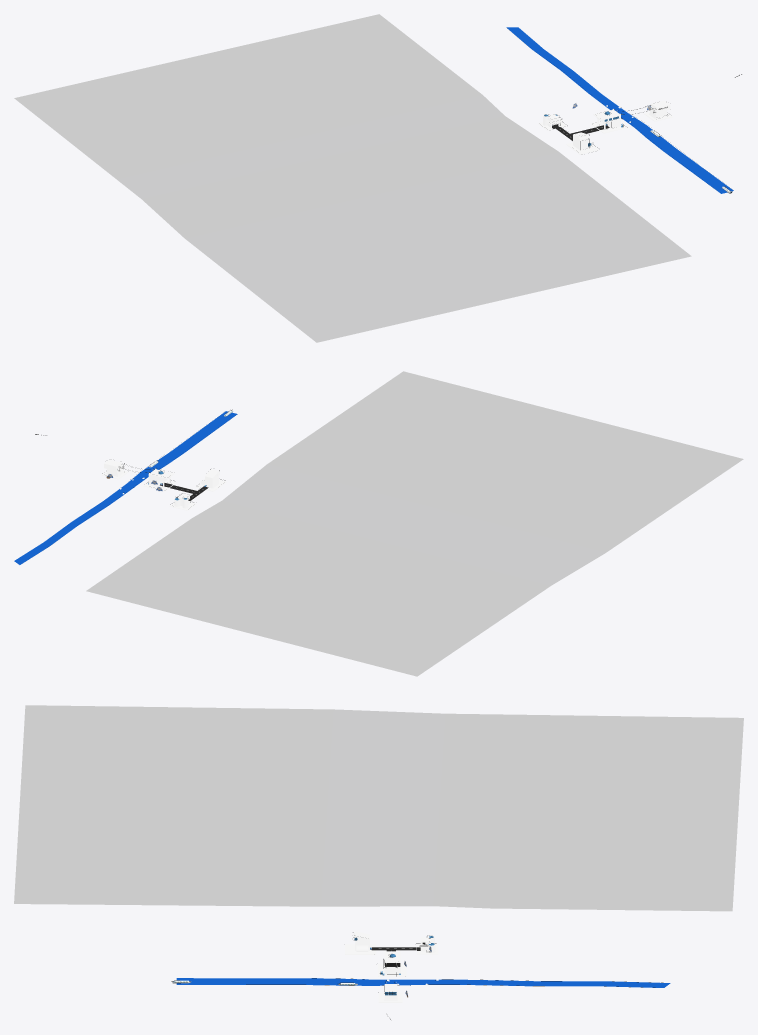
Rendered from animation.glb.
3 views of the same model, one above another, from view 1: azimuth 30°, elevation 25°; view 2: azimuth 150°, elevation 25°; view 3: azimuth 270°, elevation 25° (orthographic). The views are drawn at different scales.
Visible parts, largest first — view 1: Plane.003, Plane.006; view 2: Plane.003, Plane.006; view 3: Plane.003, Plane.006.
Boxes of the visible parts, x1,y1,x2,y2 form: Plane.003: [14, 14, 691, 342]; Plane.006: [506, 27, 733, 193]; Plane.003: [86, 371, 743, 676]; Plane.006: [14, 411, 237, 564]; Plane.003: [14, 705, 743, 911]; Plane.006: [176, 978, 670, 987].
Size of the model in its own units: 26.93 by 1.04 by 26.06.
53 materials, 2 textured.
